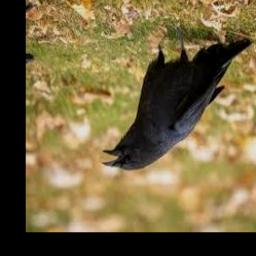Crow: (102, 26, 253, 171)
